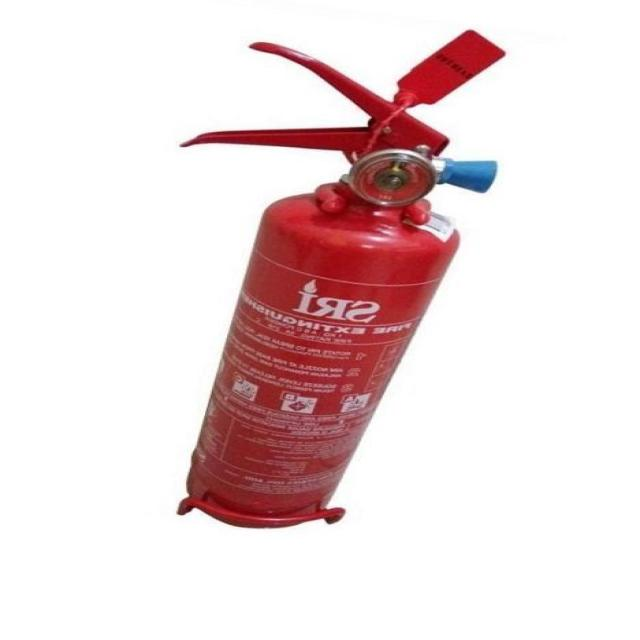fire_extinguisher: (158, 25, 513, 533)
